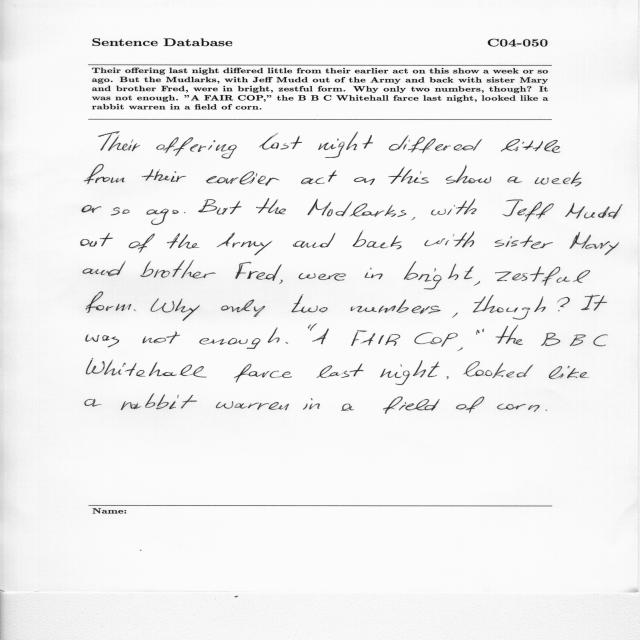word: (86, 359, 207, 378), (404, 262, 474, 290), (495, 266, 590, 286), (473, 295, 546, 320), (156, 137, 237, 159), (308, 199, 407, 217), (199, 327, 280, 349), (389, 135, 482, 153), (380, 360, 440, 385), (318, 132, 373, 158), (140, 260, 216, 278), (351, 299, 441, 314), (121, 394, 197, 411), (217, 233, 272, 256), (464, 361, 534, 378), (150, 298, 200, 321), (502, 200, 554, 222), (570, 232, 619, 255), (234, 364, 292, 383), (206, 171, 279, 186), (383, 396, 440, 414), (86, 292, 131, 313), (565, 203, 623, 219), (353, 231, 402, 249), (236, 262, 282, 281), (541, 333, 608, 346), (446, 165, 491, 184), (424, 231, 474, 248), (501, 139, 560, 153), (84, 165, 125, 185), (495, 235, 553, 249), (351, 330, 401, 346), (99, 132, 140, 151), (221, 300, 265, 317), (431, 199, 477, 215), (259, 133, 302, 150), (388, 167, 429, 184), (198, 199, 241, 215), (414, 332, 458, 347), (317, 364, 364, 378), (216, 401, 289, 410), (292, 295, 328, 313), (535, 172, 581, 186), (293, 233, 335, 248), (83, 261, 125, 276), (142, 169, 186, 182), (496, 325, 523, 345), (146, 209, 179, 225), (167, 233, 200, 249), (549, 366, 589, 379), (128, 234, 155, 253), (301, 170, 337, 184), (256, 199, 286, 215), (80, 233, 113, 247), (456, 397, 484, 413), (143, 332, 180, 344), (86, 335, 119, 348), (581, 295, 607, 311), (299, 273, 346, 281), (497, 404, 540, 412), (312, 329, 329, 344), (303, 398, 320, 410), (365, 268, 383, 279), (557, 297, 570, 311), (354, 177, 375, 185), (82, 205, 101, 213), (111, 208, 130, 216), (85, 399, 102, 407), (507, 176, 522, 183), (341, 404, 354, 411), (308, 323, 317, 331), (476, 328, 484, 335), (474, 281, 480, 286), (452, 313, 458, 318), (457, 348, 463, 351), (279, 280, 283, 284), (412, 217, 416, 220), (447, 376, 449, 379), (134, 309, 136, 311), (286, 342, 288, 344), (546, 410, 548, 411), (184, 212, 185, 213)
